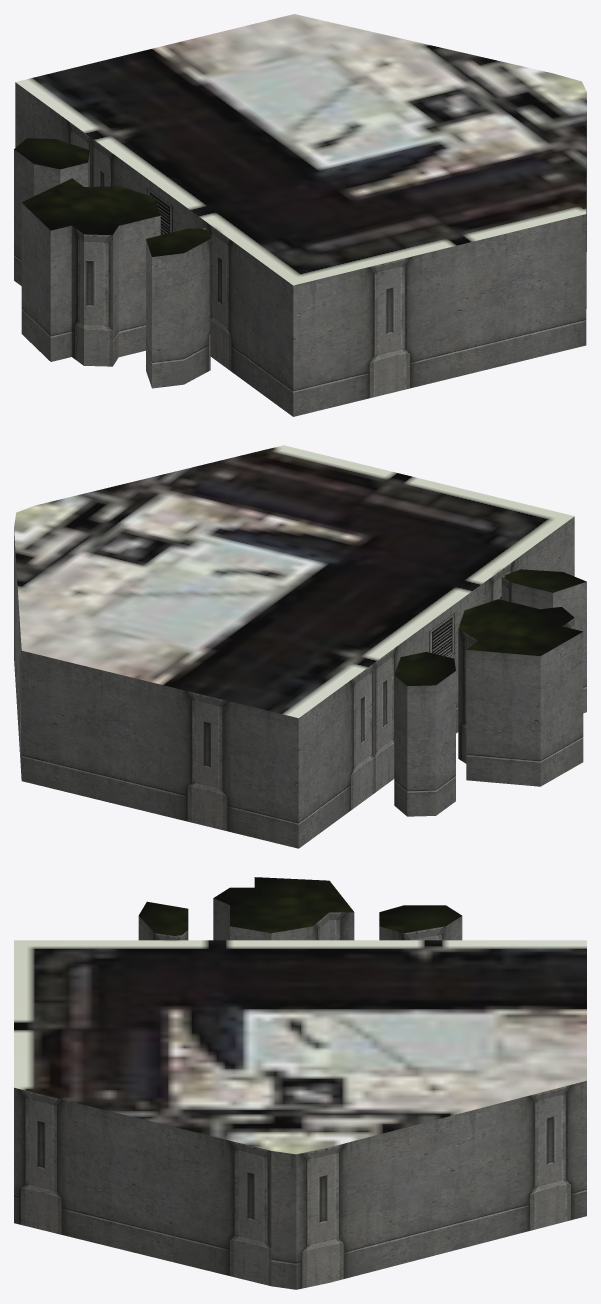
The model's file is BuildingSystem-03-Advance-04-ReinforcedLow-R-110-02.glb.
3 views of the same model, one above another, from view 1: azimuth 30°, elevation 25°; view 2: azimuth 150°, elevation 25°; view 3: azimuth 270°, elevation 25° (orthographic). The views are drawn at different scales.
Visible parts, largest first — view 1: buildings/saxarba/SMV_Buildings/BuildingSystem-03-Advance-04; view 2: buildings/saxarba/SMV_Buildings/BuildingSystem-03-Advance-04; view 3: buildings/saxarba/SMV_Buildings/BuildingSystem-03-Advance-04.
Boxes of the visible parts, x1=… form: buildings/saxarba/SMV_Buildings/BuildingSystem-03-Advance-04: x1=14, y1=14, x2=586, y2=416; buildings/saxarba/SMV_Buildings/BuildingSystem-03-Advance-04: x1=14, y1=445, x2=586, y2=848; buildings/saxarba/SMV_Buildings/BuildingSystem-03-Advance-04: x1=14, y1=877, x2=586, y2=1289.
Bounding box in the file's own units: 79 × 18 × 69.
